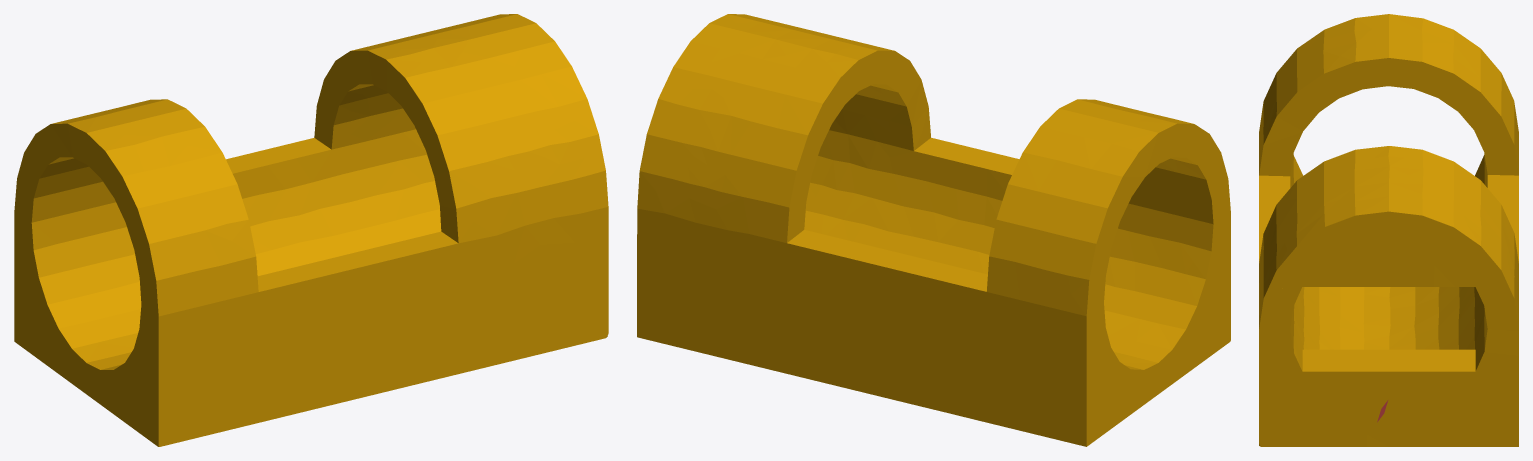
Rendered from fractured_24_2pcs.glb.
3 views of the same model, side by side, from view 1: azimuth 30°, elevation 25°; view 2: azimuth 150°, elevation 25°; view 3: azimuth 270°, elevation 25° (orthographic). The views are drawn at different scales.
Parts seen in each view (by area): view 1: piece_0.obj; view 2: piece_0.obj; view 3: piece_0.obj.
Part boxes in pixels (x1,y1,x2,y2): piece_0.obj: (14,14,608,446); piece_0.obj: (637,14,1230,446); piece_0.obj: (1259,14,1518,446).
Size of the model in its own units: 1 by 0.5556 by 0.5555.
